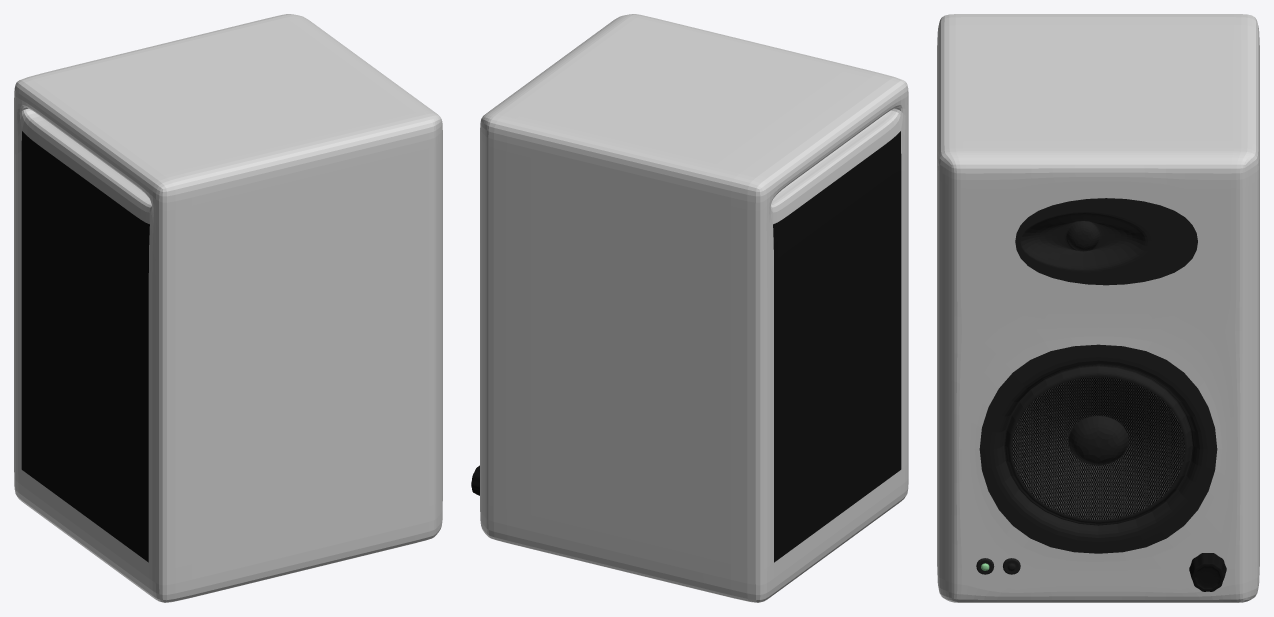
Rendered from speakers 3 primary.glb.
3 renders of one model, left to right at view 1: azimuth 30°, elevation 25°; view 2: azimuth 150°, elevation 25°; view 3: azimuth 270°, elevation 25°, orthographic. The views are drawn at different scales.
Visible parts, largest first — view 1: Cube; view 2: Cube; view 3: Cube.
Part boxes in pixels (x1=…): Cube: x1=14, y1=14, x2=442, y2=602; Cube: x1=471, y1=14, x2=908, y2=602; Cube: x1=937, y1=14, x2=1259, y2=602.
Size of the model in its own units: 8.19 by 10.75 by 7.
5 materials, 1 textured.
